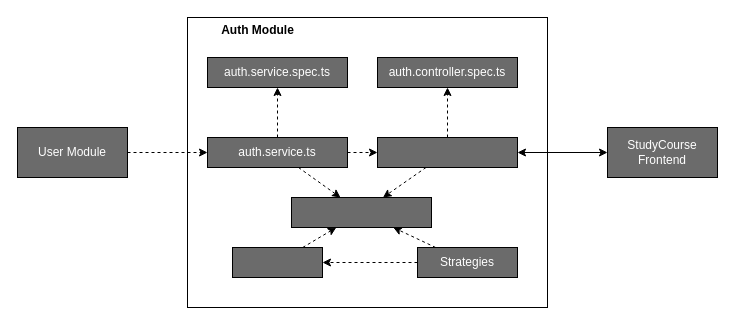
Image size: 735x325. Some labels were removed from this diagram. The shapes that lost their labels are listed below. From the top down, each one's box as (x1, y1, x2, y2) in pixels, then its label:
(376, 136, 518, 168): auth.controller.ts
(290, 196, 432, 228): auth.module.ts
(232, 246, 322, 278): Guards
